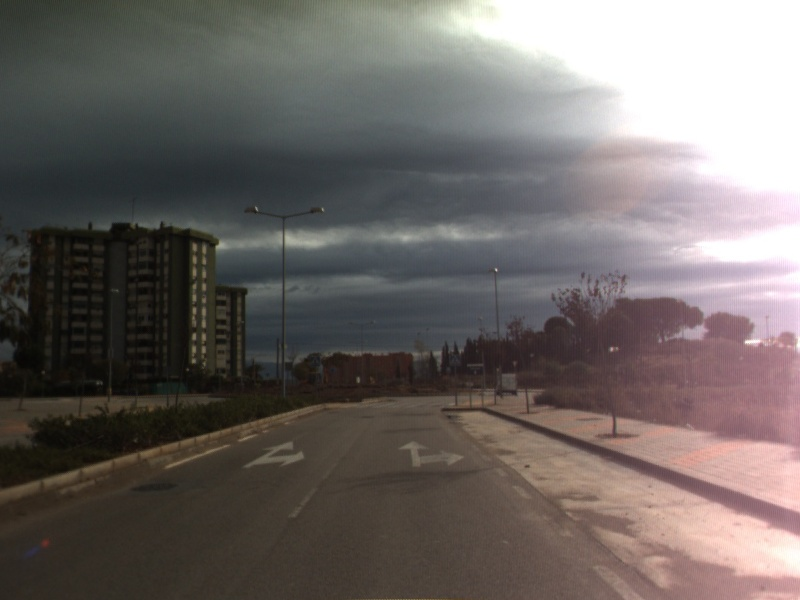STRAIGHT_RIGHT: (396, 439, 467, 469), (240, 439, 306, 470)
